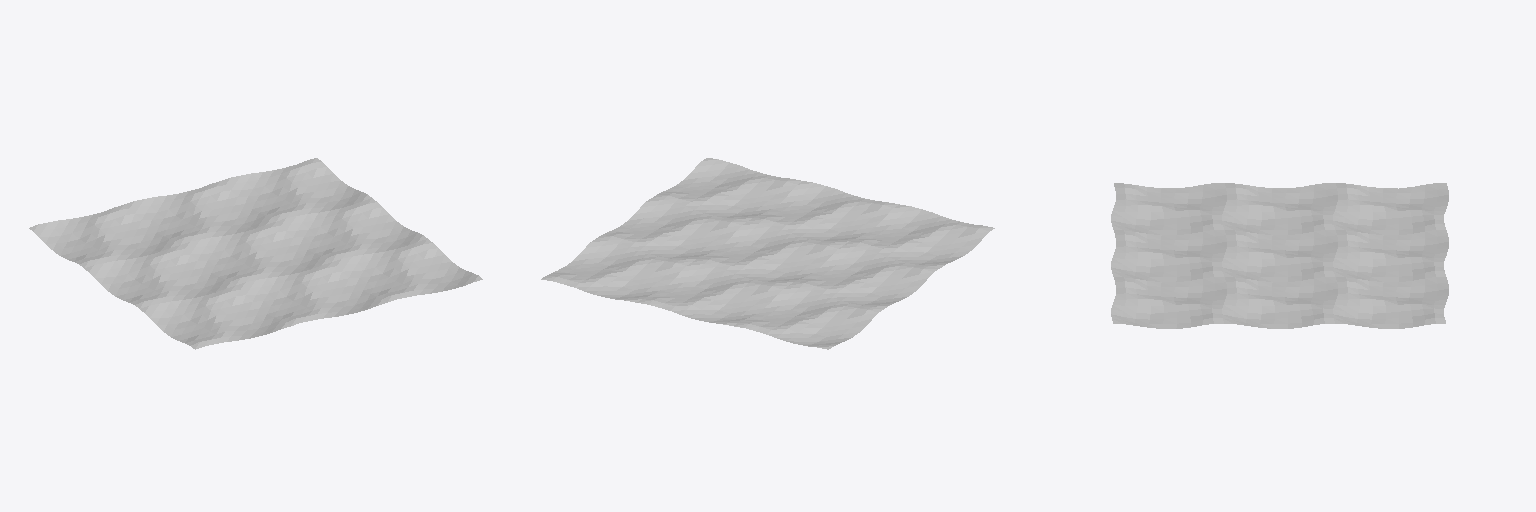
File: ocean_000274.obj
3 renders of one model, left to right at view 1: azimuth 30°, elevation 25°; view 2: azimuth 150°, elevation 25°; view 3: azimuth 270°, elevation 25°, orthographic.
Parts seen in each view (by area): view 1: Ocean_Plan.001; view 2: Ocean_Plan.001; view 3: Ocean_Plan.001.
Boxes of the visible parts, x1=… form: Ocean_Plan.001: x1=29, y1=158, x2=482, y2=349; Ocean_Plan.001: x1=541, y1=158, x2=994, y2=349; Ocean_Plan.001: x1=1111, y1=183, x2=1448, y2=328.
Bounding box in the file's own units: 109276 × 2478 × 110740.